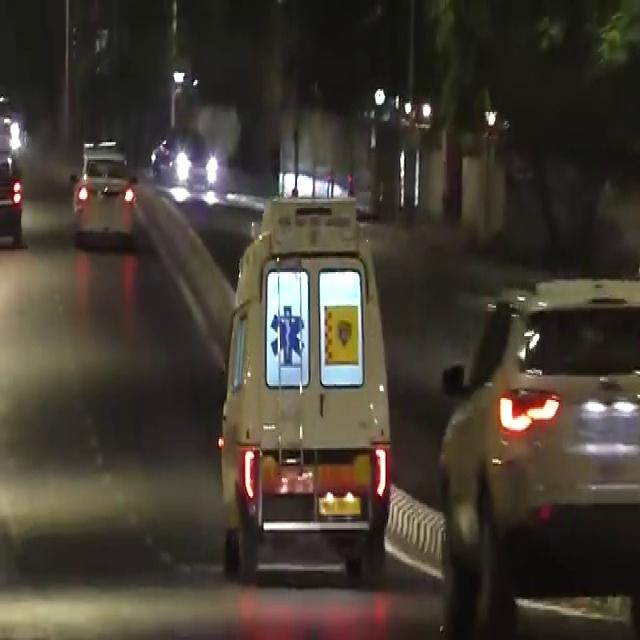ambulance: (210, 188, 407, 555)
